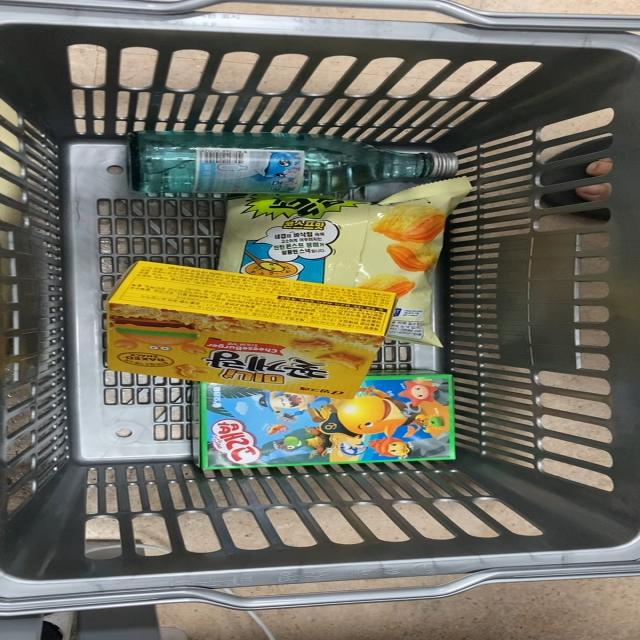ggobukchip: (223, 193, 499, 280)
goraebob: (200, 382, 476, 470)
jinro: (123, 120, 478, 188)
minicrab: (111, 260, 376, 391)
